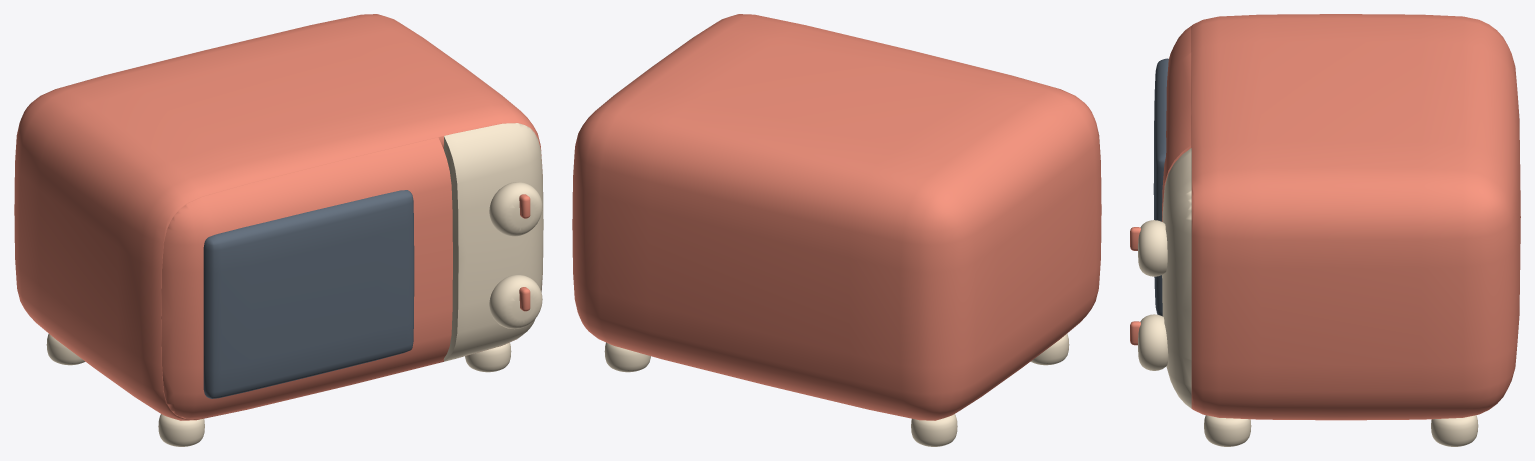
File: microwave_b.glb
3 renders of one model, left to right at view 1: azimuth 30°, elevation 25°; view 2: azimuth 150°, elevation 25°; view 3: azimuth 270°, elevation 25°, orthographic.
Parts seen in each view (by area): view 1: body, door; view 2: body; view 3: body, door.
Part boxes in pixels (<box>): body: <box>14,14,543,446</box>; door: <box>161,137,452,419</box>; body: <box>572,14,1101,446</box>; body: <box>1130,14,1520,446</box>; door: <box>1153,26,1191,316</box>.
Size of the model in its own units: 0.5 by 0.32 by 0.413.
